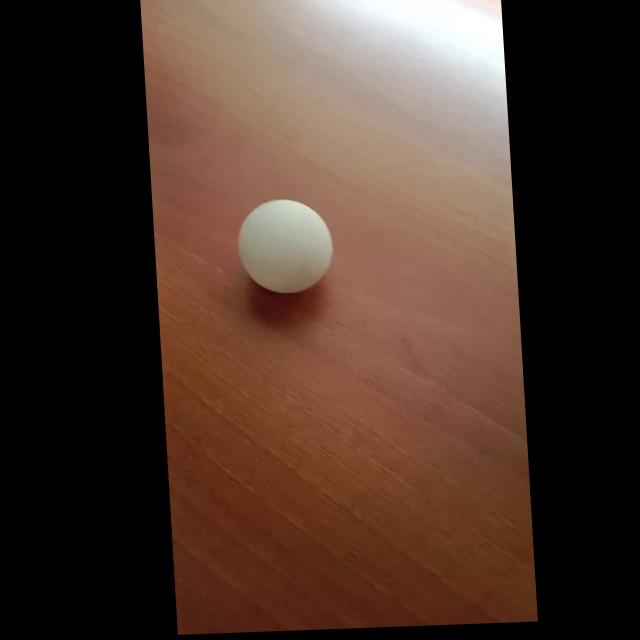white ball: (234, 196, 336, 296)
